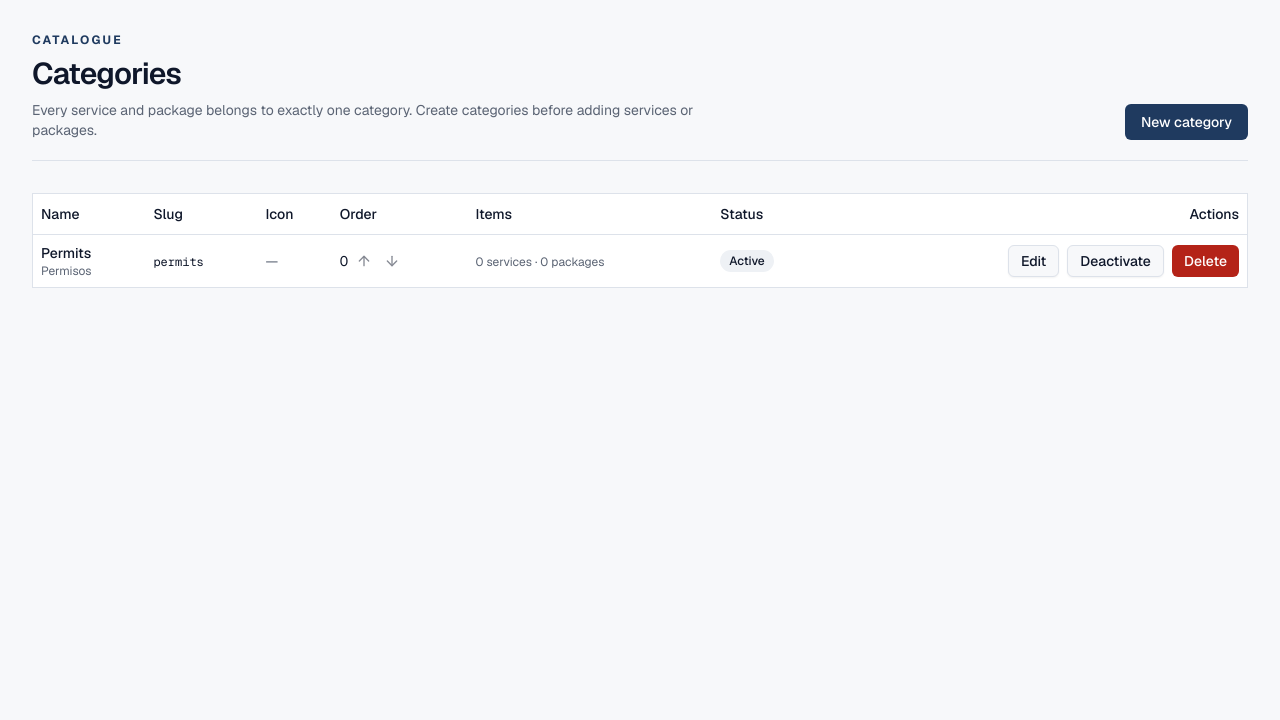
it: admin categories › blocks a submit that fails client validation
Check: the text "Permits" is shown, box [41,244,91,262]
Step 1. Click the button "New category" → (1186, 122), box [1125,104,1248,140]
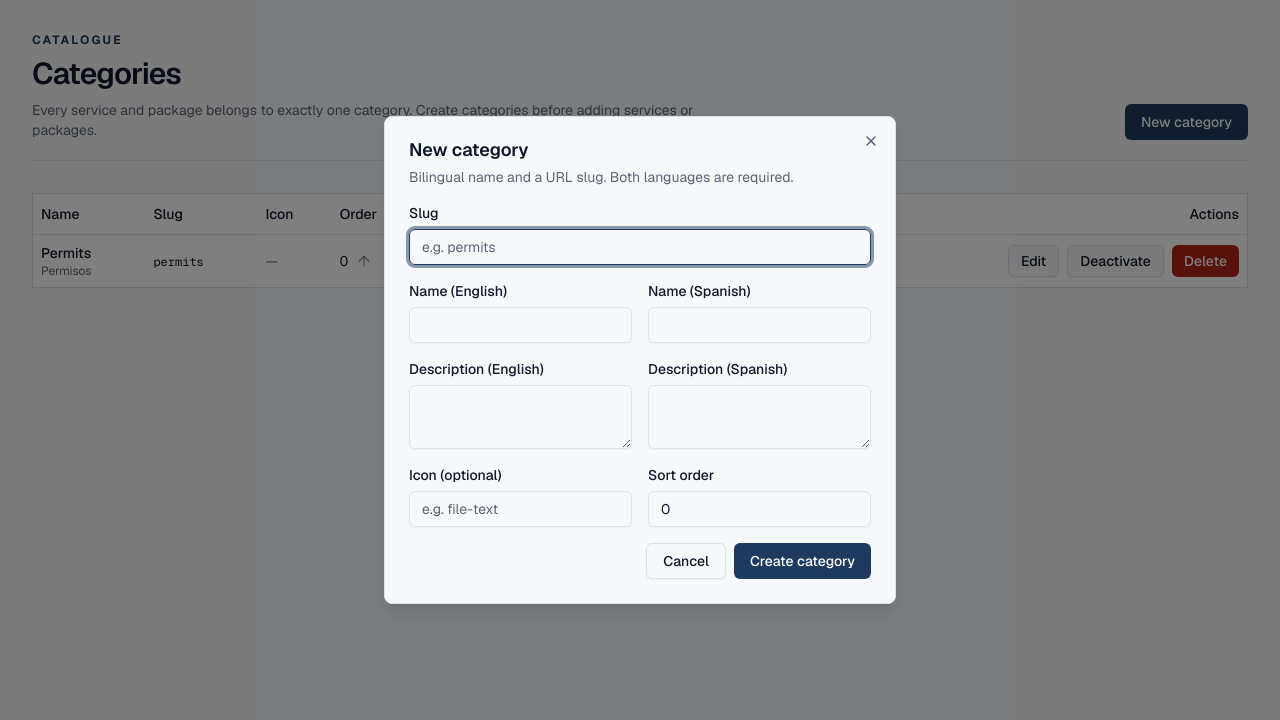
Step 2. Click the button "Create category" → (802, 561), box [734,543,871,579]
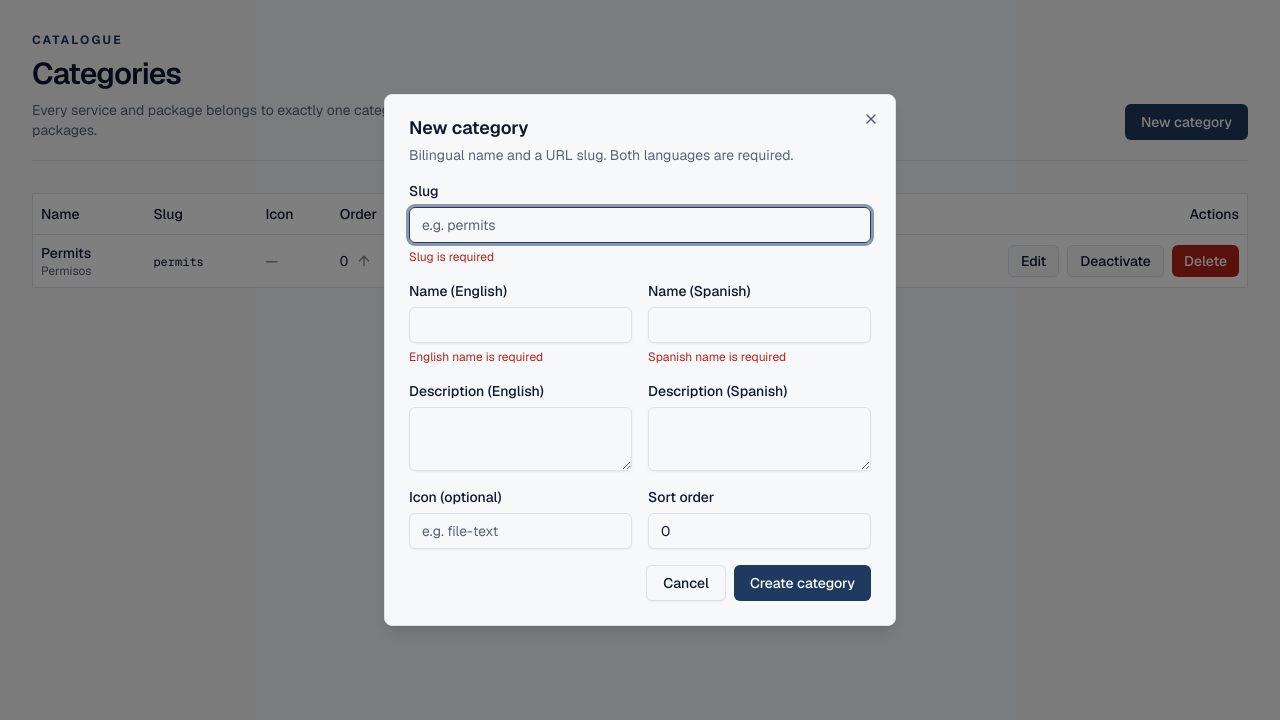
Check: the text "Slug is required" is shown, box [409,249,494,265]
Check: the text "English name is required" is shown, box [409,349,543,365]
Check: the text "Spanish name is required" is shown, box [648,349,786,365]
